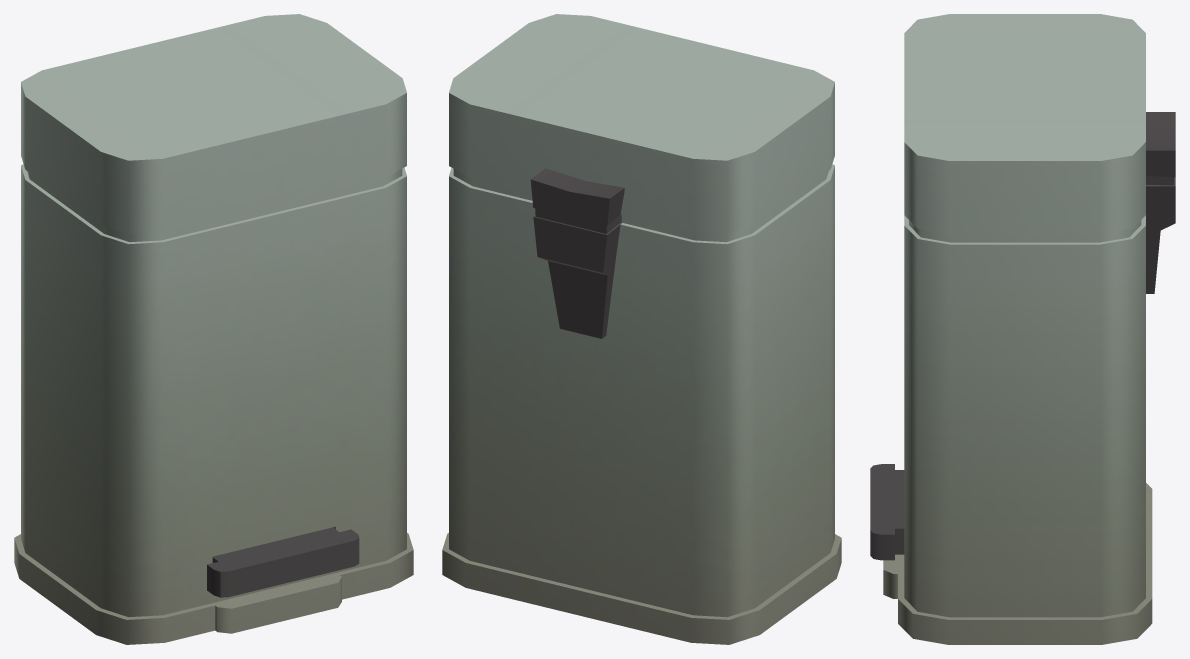
Rendered from SM_Trash_Can_Kitchen_03.fbx.
3 views of the same model, side by side, from view 1: azimuth 30°, elevation 25°; view 2: azimuth 150°, elevation 25°; view 3: azimuth 270°, elevation 25° (orthographic).
Parts seen in each view (by area): view 1: SM_Trash_Can_Kitchen_03; view 2: SM_Trash_Can_Kitchen_03; view 3: SM_Trash_Can_Kitchen_03.
Part boxes in pixels (x1,y1,x2,y2): SM_Trash_Can_Kitchen_03: (14,14,413,644); SM_Trash_Can_Kitchen_03: (442,14,841,644); SM_Trash_Can_Kitchen_03: (870,14,1175,644).
Bounding box in the file's own units: 40.05 × 58.95 × 33.93.
